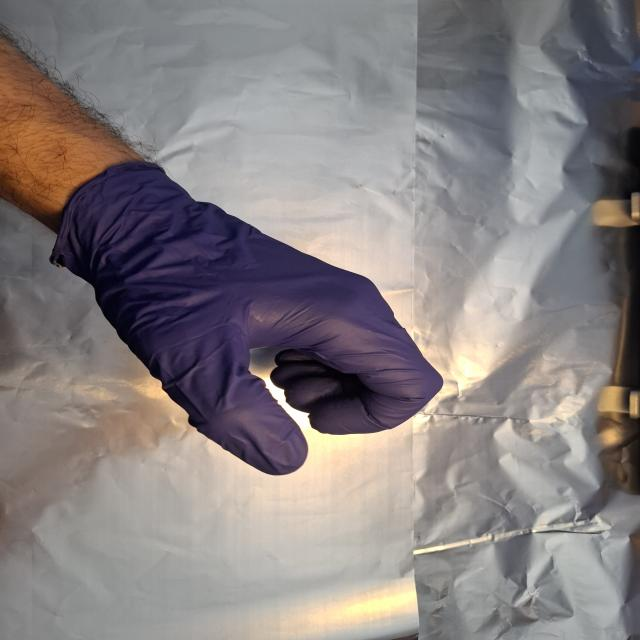glove_on: (51, 157, 447, 481)
